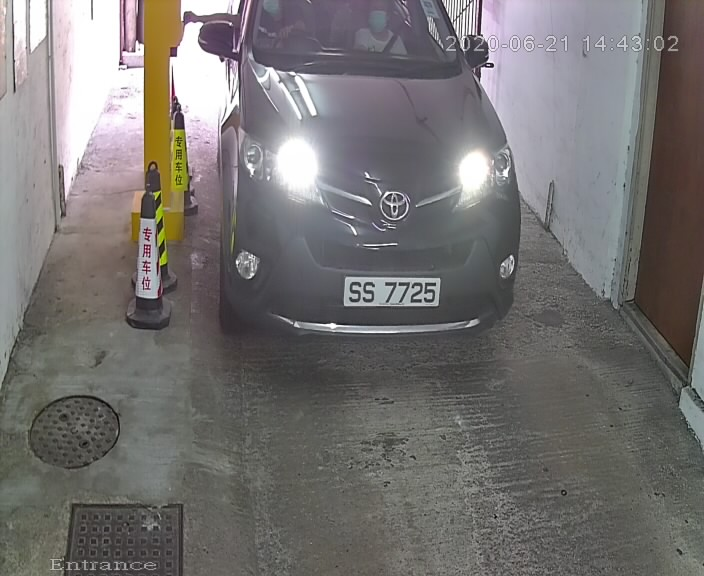privatecar: (186, 1, 536, 368)
